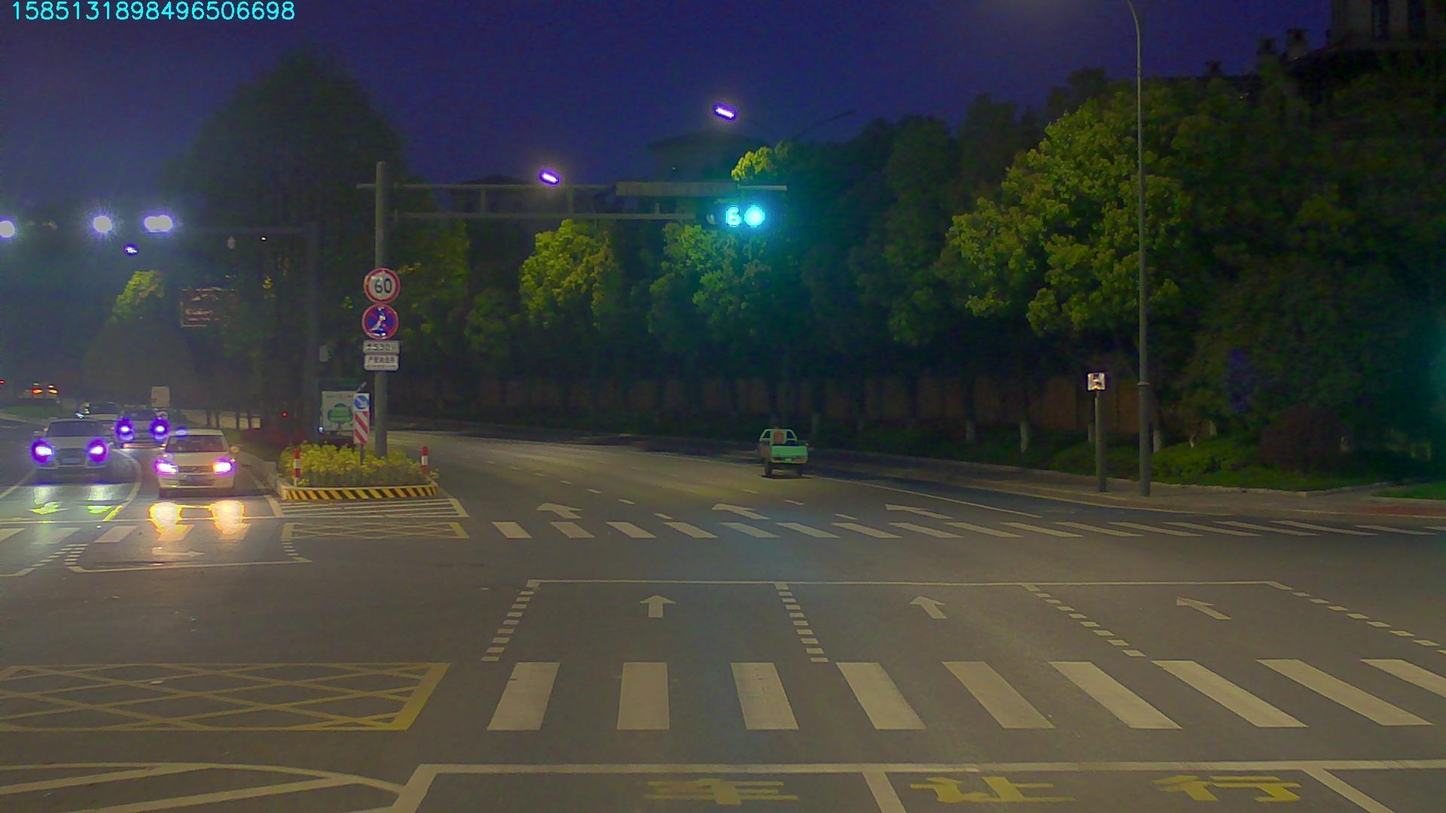green: (703, 198, 762, 227)
